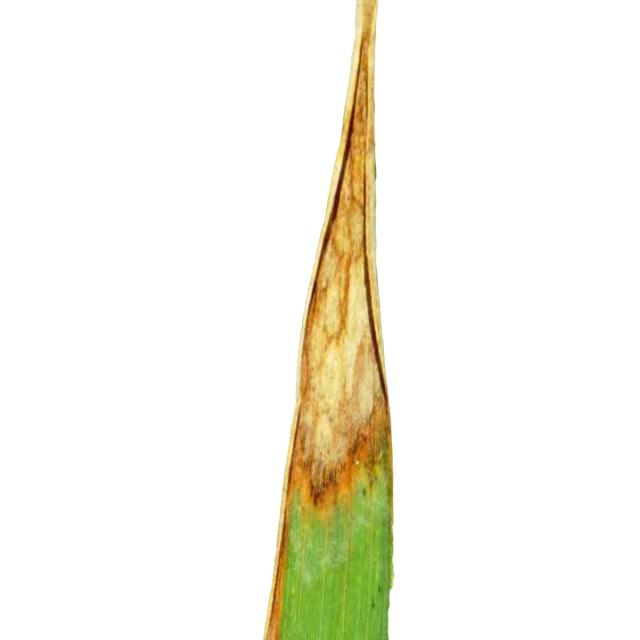Leaf scald: (173, 0, 487, 640)
